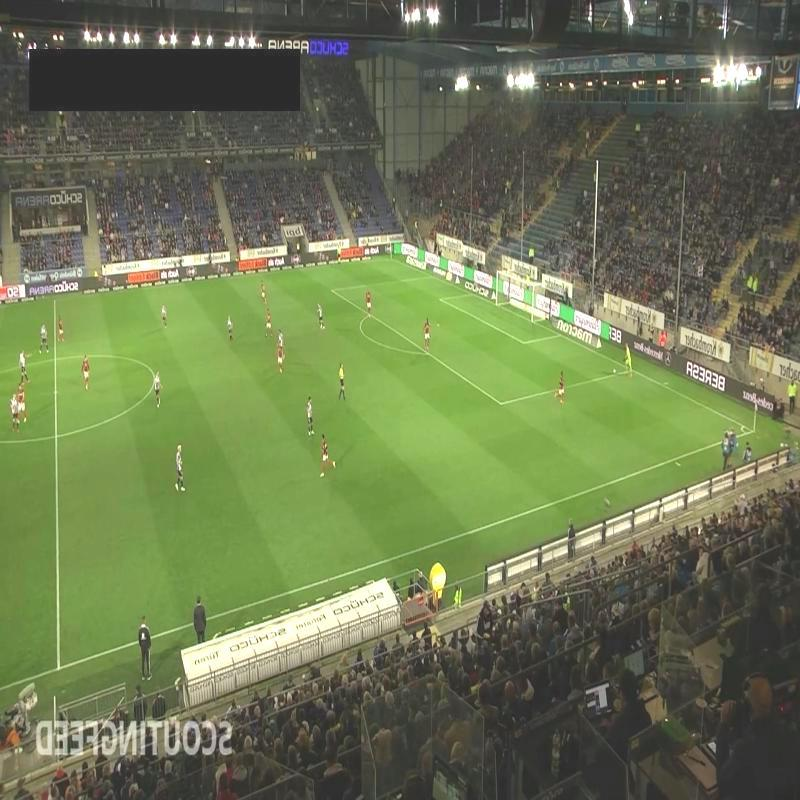1: (384, 250, 397, 264)
10: (363, 306, 377, 320)
11: (421, 345, 435, 359)
12: (494, 395, 508, 409)
13: (48, 290, 62, 304)
14: (48, 350, 62, 364)
15: (49, 428, 62, 442)
16: (51, 659, 66, 673)
2: (427, 268, 441, 282)
3: (466, 285, 481, 299)
4: (554, 327, 568, 341)
5: (625, 362, 639, 376)
7: (434, 292, 449, 306)
8: (518, 334, 532, 348)
9: (326, 282, 340, 296)
c: (148, 372, 162, 386)
